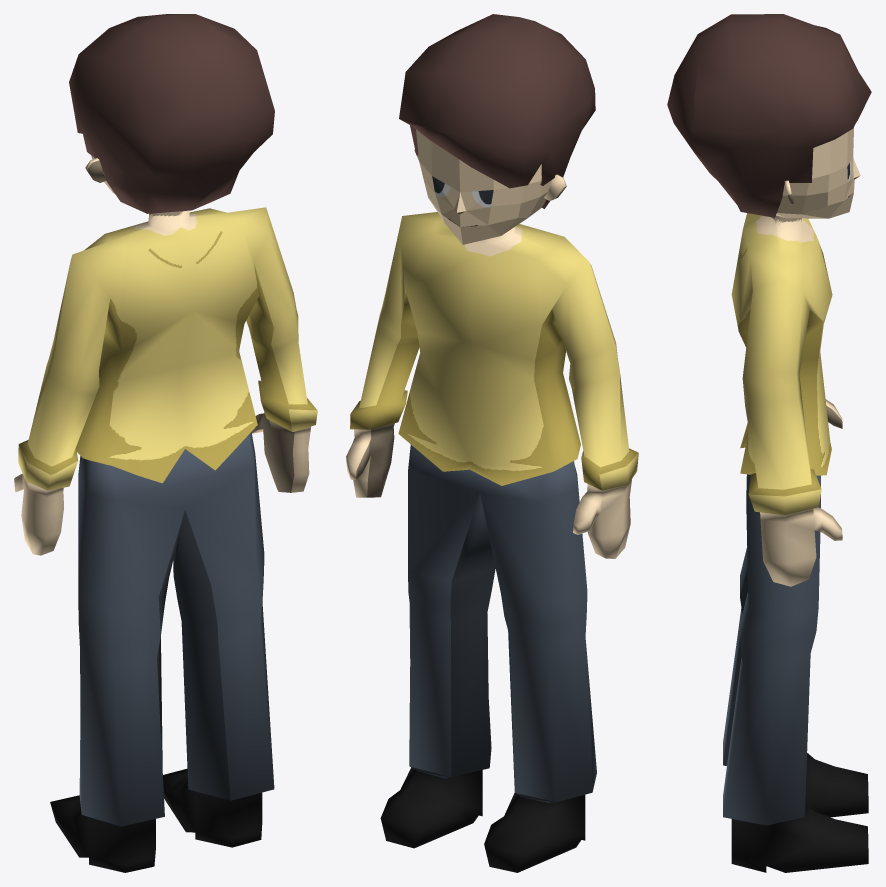
File: M SIDESWIPE.glb
3 renders of one model, left to right at view 1: azimuth 30°, elevation 25°; view 2: azimuth 150°, elevation 25°; view 3: azimuth 270°, elevation 25°, orthographic. The views are drawn at different scales.
Parts seen in each view (by area): view 1: MEN OFFICE, SIDESWEPT; view 2: MEN OFFICE, SIDESWEPT, MAN HEAD; view 3: MEN OFFICE, SIDESWEPT, MAN HEAD.
Boxes of the visible parts, x1=… form: MEN OFFICE: x1=14, y1=207, x2=317, y2=872; SIDESWEPT: x1=69, y1=14, x2=274, y2=213; MEN OFFICE: x1=346, y1=212, x2=638, y2=872; SIDESWEPT: x1=399, y1=14, x2=595, y2=208; MAN HEAD: x1=416, y1=129, x2=551, y2=244; MEN OFFICE: x1=723, y1=213, x2=868, y2=872; SIDESWEPT: x1=667, y1=14, x2=871, y2=217; MAN HEAD: x1=776, y1=127, x2=860, y2=218.
Size of the model in its own units: 3.32 by 9.29 by 2.13.
4 materials, 4 textured.
